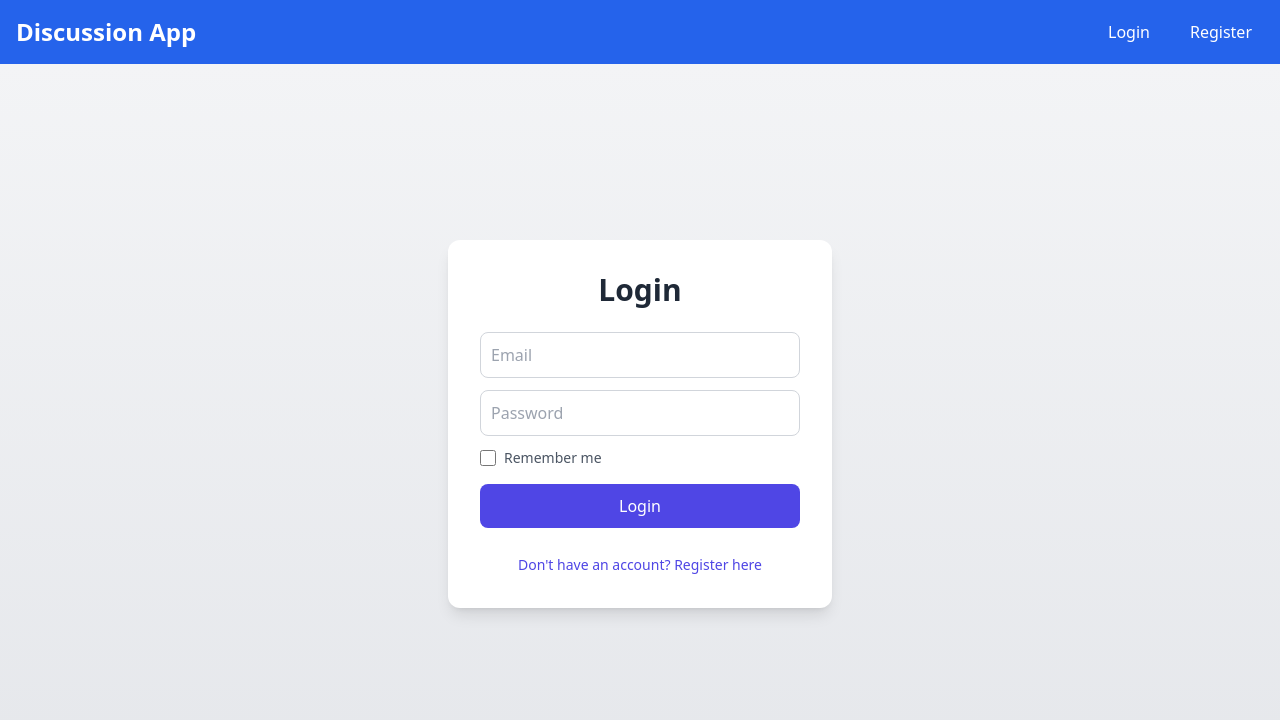
Scenario: Login Page Edge Cases › handles network failures gracefully
The width and height of the screenshot is (1280, 720).
# Submit login credentials
Step 1. Type "test@example.com" into the field named "email" → [640, 355], box [480, 332, 800, 378]
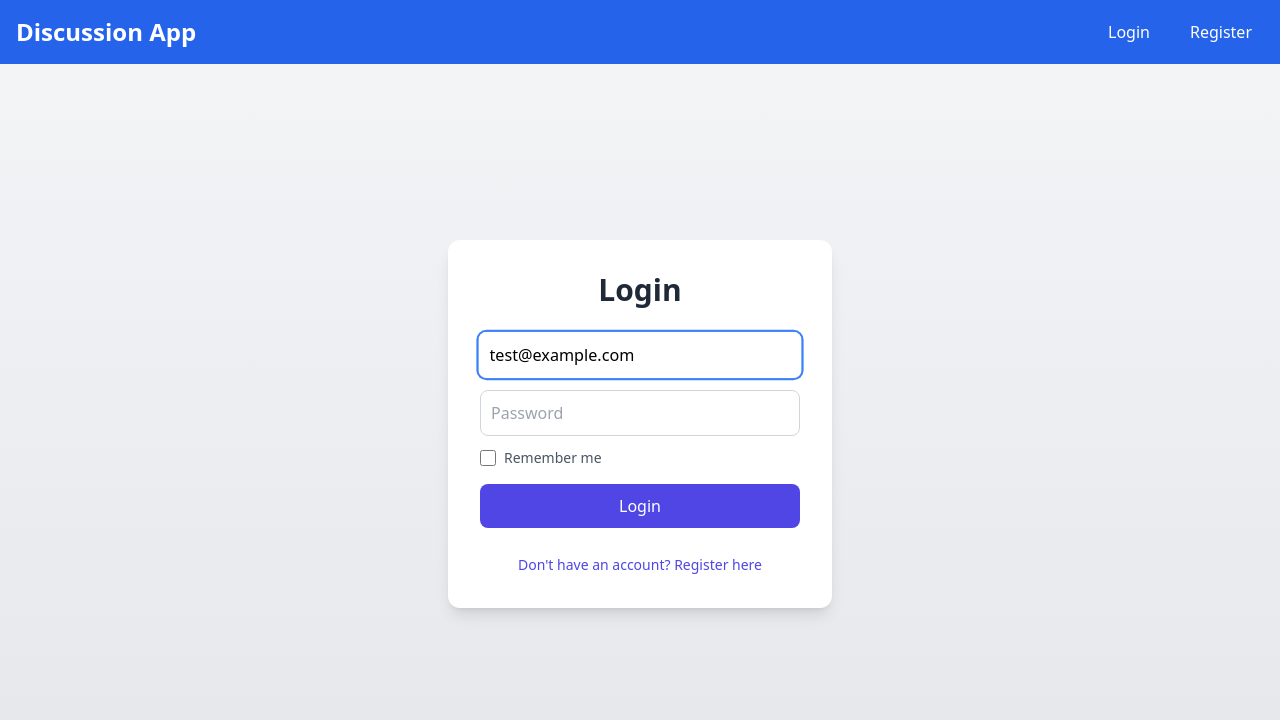
Step 2. Type "password123" into the password field named "password" → [640, 413], box [480, 390, 800, 436]
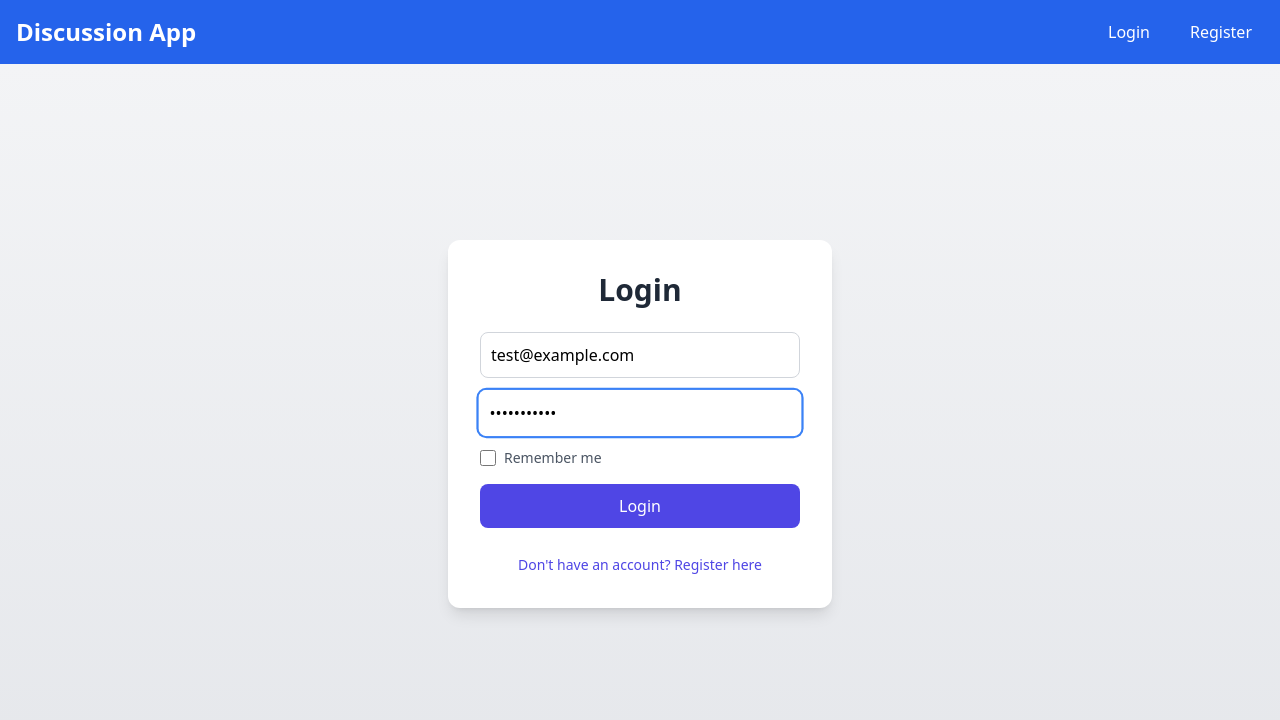
Step 3. Click the button "Login" → [640, 506], box [480, 484, 800, 528]
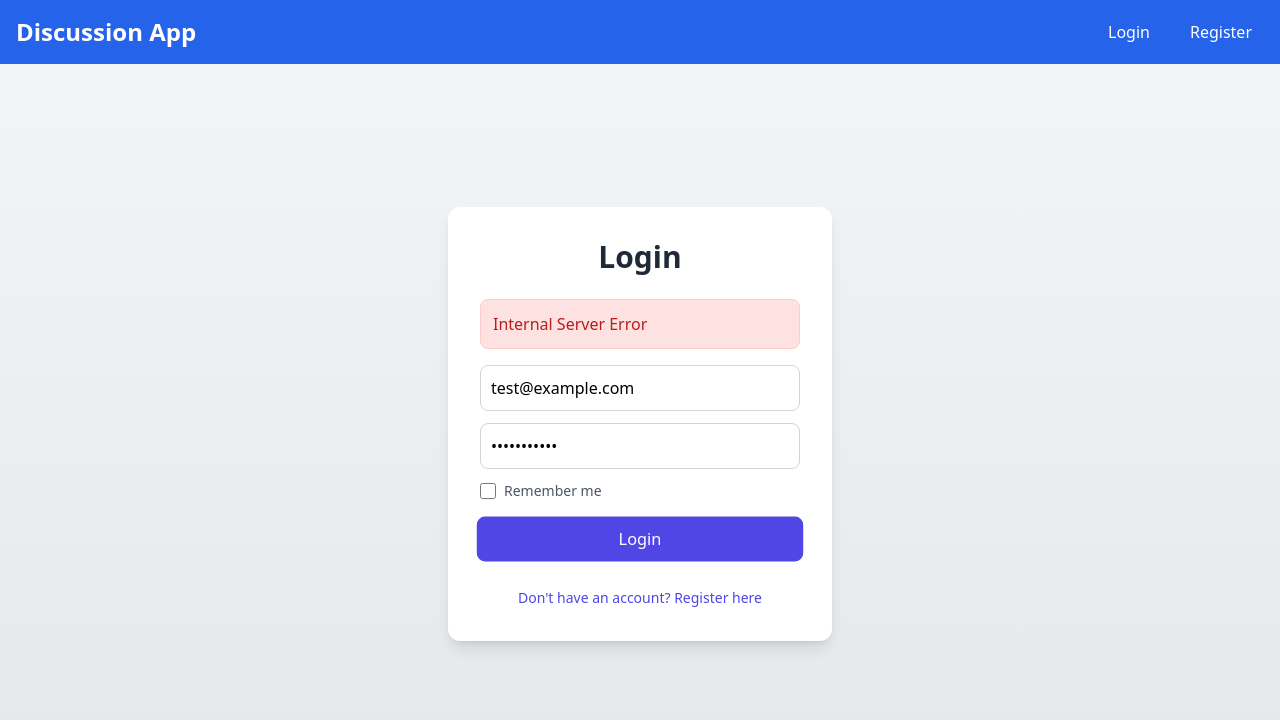
Expected: the text "Internal Server Error" is shown, [480, 299, 800, 349]
